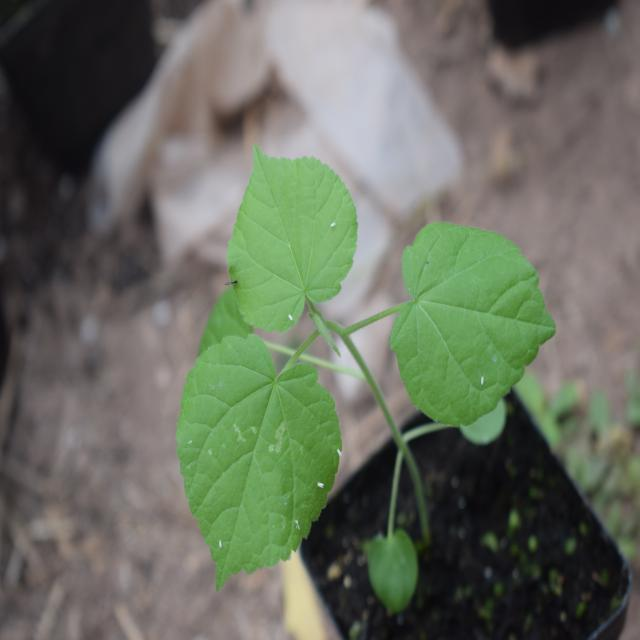abutilon theophrasti: (174, 143, 546, 603)
